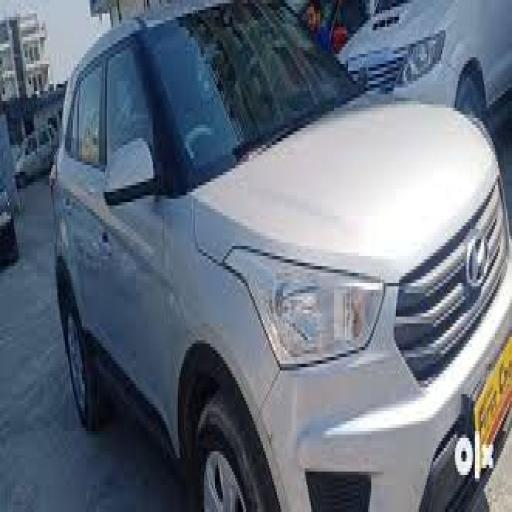car: (47, 4, 511, 512)
